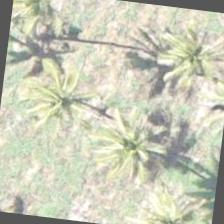Kelapa_Sawit: (76, 96, 176, 196), (9, 52, 109, 152), (131, 10, 223, 111), (7, 0, 80, 54)
